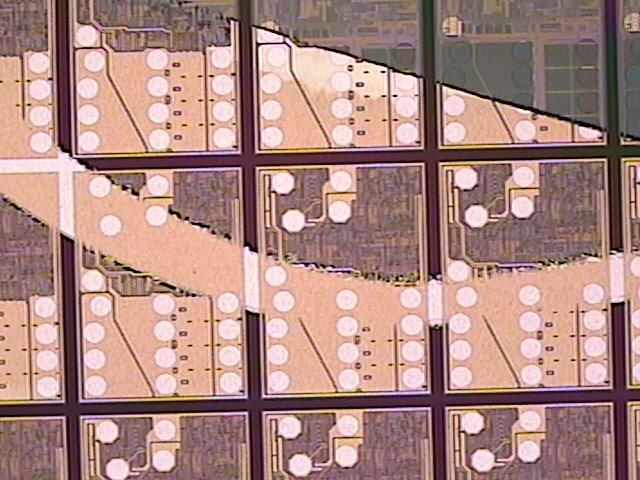COATING BAD: (2, 17, 640, 403)
